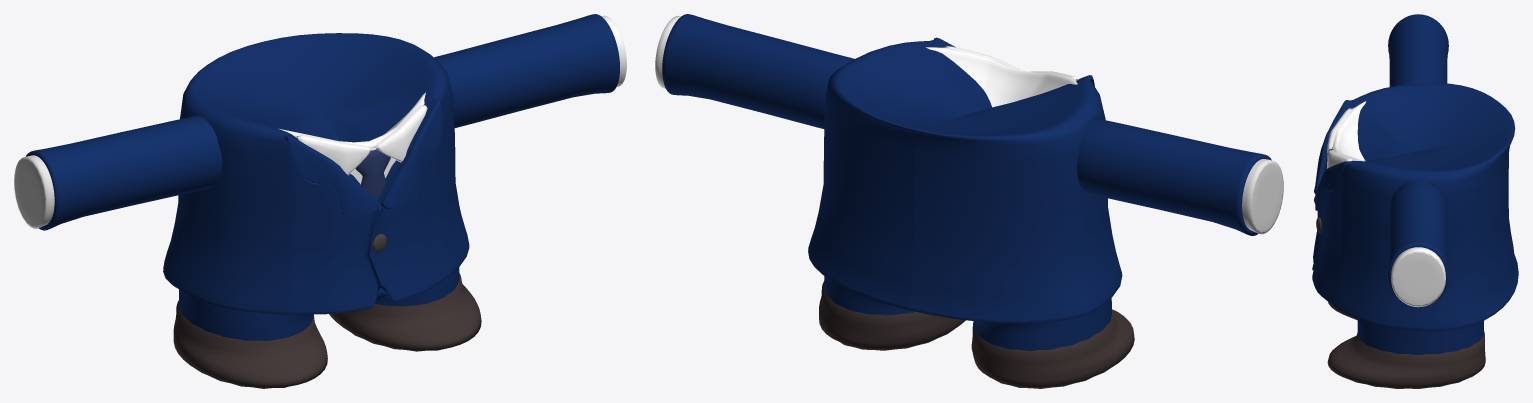
Rendered from vest.glb.
3 views of the same model, side by side, from view 1: azimuth 30°, elevation 25°; view 2: azimuth 150°, elevation 25°; view 3: azimuth 270°, elevation 25° (orthographic). The views are drawn at different scales.
Visible parts, largest first — view 1: AO_vest; view 2: AO_vest; view 3: AO_vest.
Part boxes in pixels (x1=…): AO_vest: x1=14, y1=14, x2=626, y2=388; AO_vest: x1=655, y1=14, x2=1283, y2=388; AO_vest: x1=1312, y1=14, x2=1518, y2=388.
Bounding box in the file's own units: 1.07 × 0.4364 × 0.3913.
Materials: 1 (1 with a texture image).
